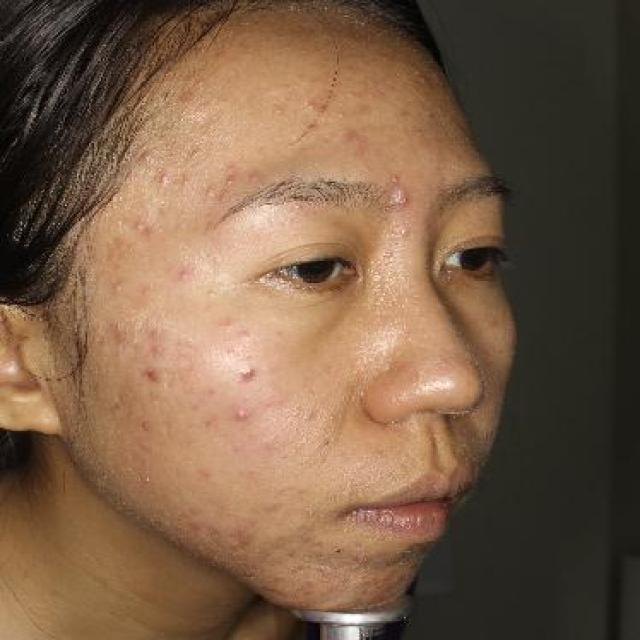dark spot: (142, 357, 164, 385)
nodules: (382, 178, 419, 216)
papules: (231, 357, 264, 388), (228, 402, 252, 426), (123, 214, 149, 235)
pustules: (299, 505, 320, 523), (170, 176, 193, 190), (268, 103, 288, 119), (152, 171, 173, 186), (136, 148, 158, 162)
